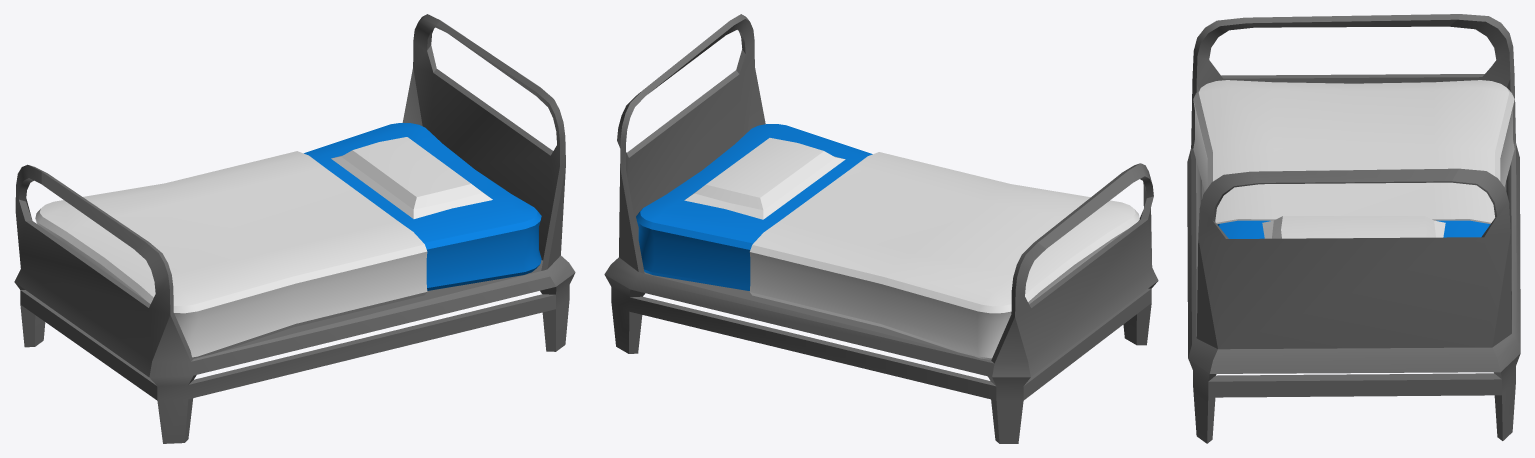
File: Bed.fbx
3 views of the same model, side by side, from view 1: azimuth 30°, elevation 25°; view 2: azimuth 150°, elevation 25°; view 3: azimuth 270°, elevation 25° (orthographic). The views are drawn at different scales.
Visible parts, largest first — view 1: Mattress, BedFrame; view 2: Mattress, BedFrame; view 3: BedFrame, Mattress.
Part boxes in pixels (bbox=[...]): Mattress: bbox=[35, 123, 541, 358]; BedFrame: bbox=[14, 14, 575, 443]; Mattress: bbox=[636, 124, 1139, 360]; BedFrame: bbox=[604, 14, 1158, 443]; BedFrame: bbox=[1187, 14, 1520, 443]; Mattress: bbox=[1193, 80, 1514, 238].
Bounding box in the file's own units: 340 × 184 × 206.
